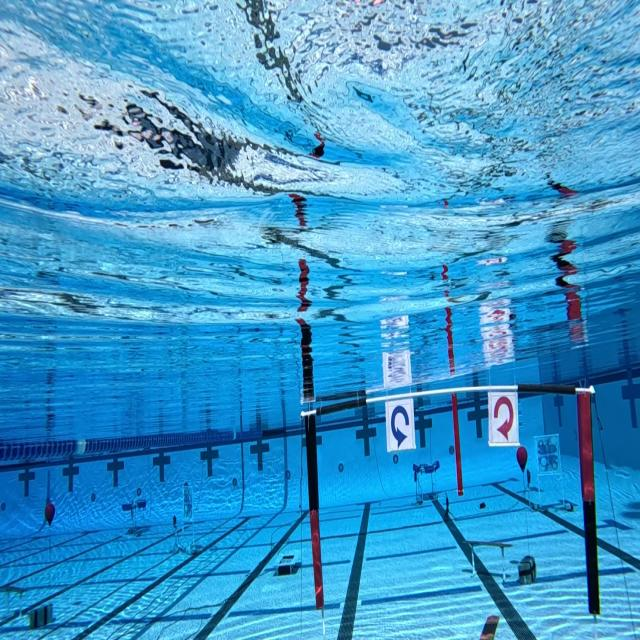blue_side: (386, 401, 415, 449)
red_side: (488, 390, 520, 446)
